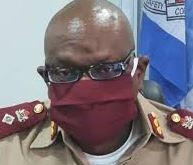with_facemask: (44, 79, 140, 142)
